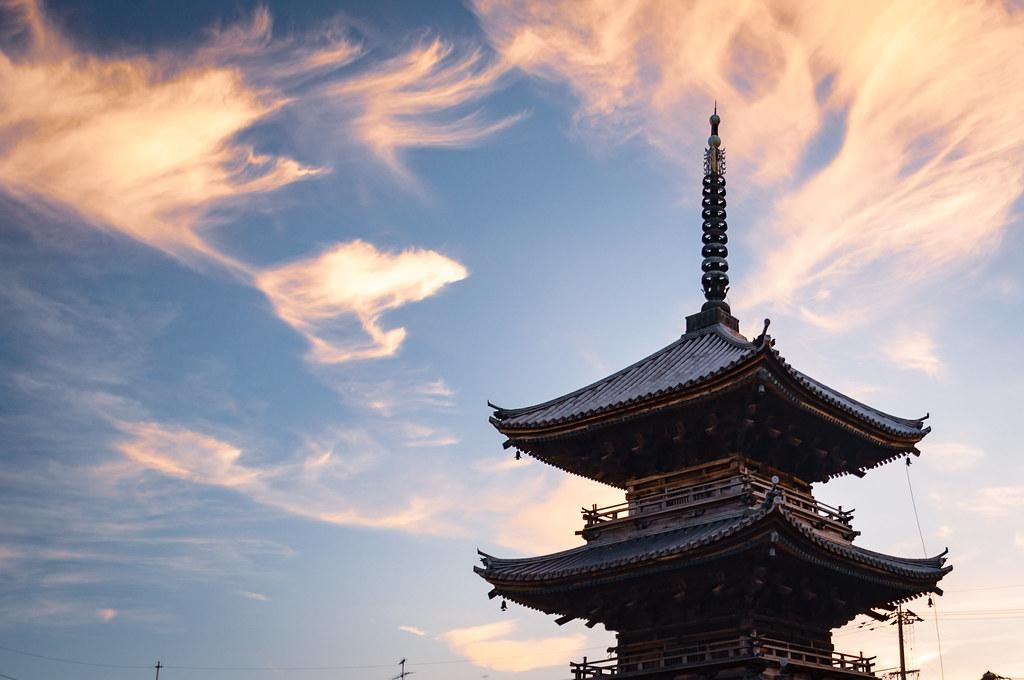temple: (473, 99, 954, 679)
